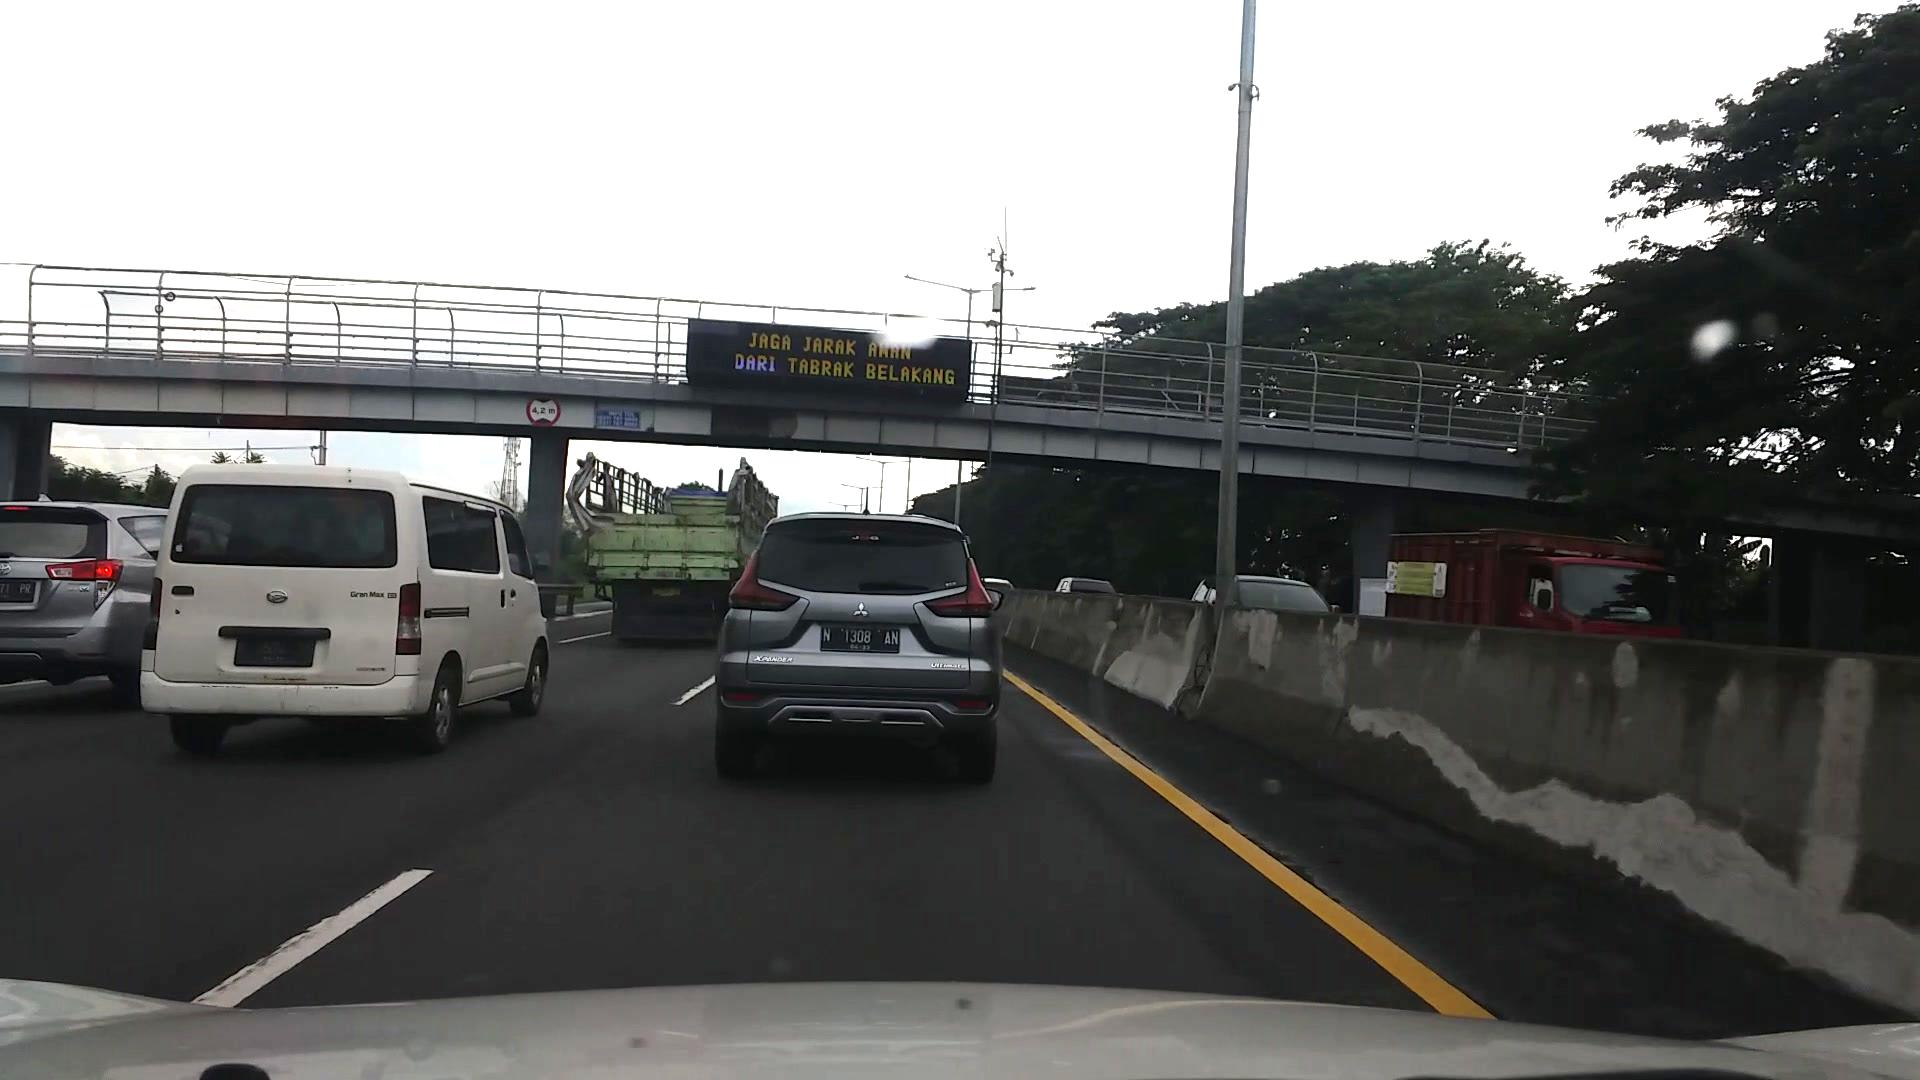plate_positive: (820, 624, 901, 653)
